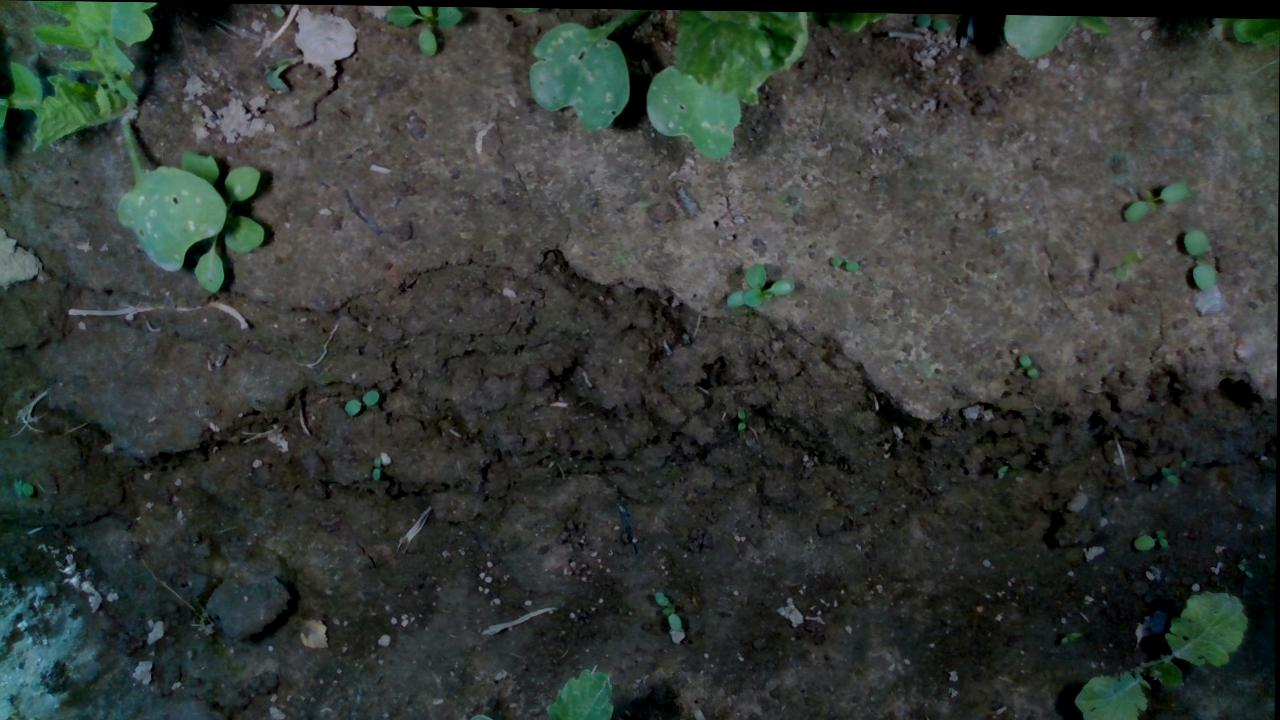weed: (1119, 175, 1191, 219), (1180, 221, 1218, 288), (653, 587, 684, 633), (341, 385, 380, 418), (1129, 524, 1171, 548), (1017, 344, 1040, 379), (827, 252, 862, 270), (1159, 458, 1182, 484), (732, 406, 748, 435), (1058, 626, 1083, 643), (1235, 555, 1255, 575), (370, 452, 382, 480)
